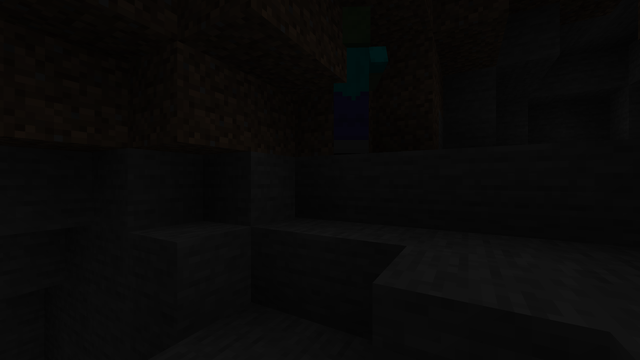zombies: (322, 2, 375, 156)
